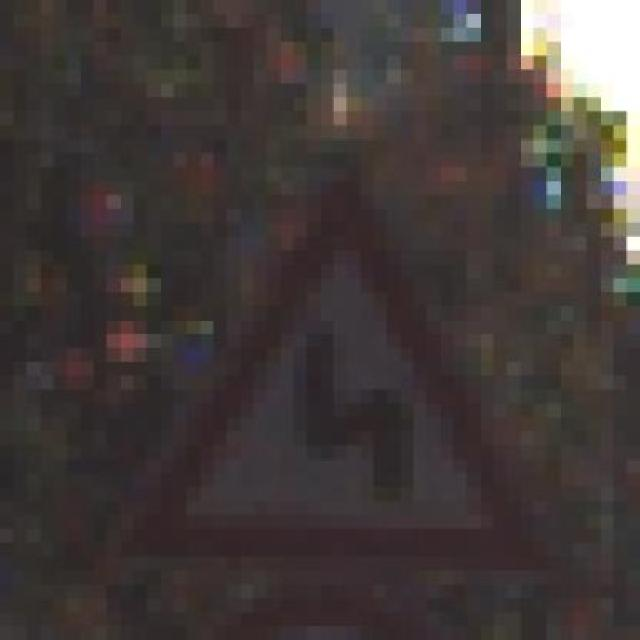Left Zig Zag Traffic: (106, 153, 560, 570)
